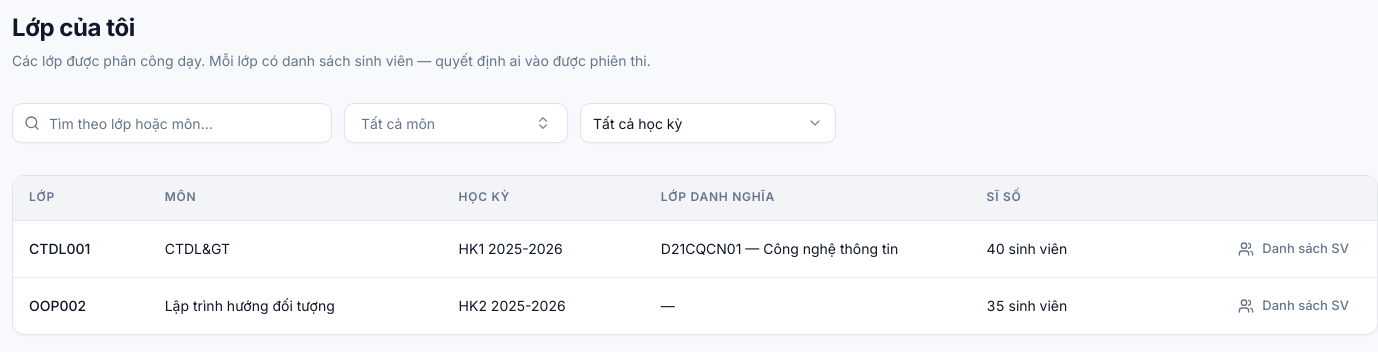
Test: TeacherClassesPage › lọc theo học kỳ
The image size is (1378, 352).
Click the dropdown named "Lọc theo học kỳ" at x=708, y=123, box [580,103,836,143]
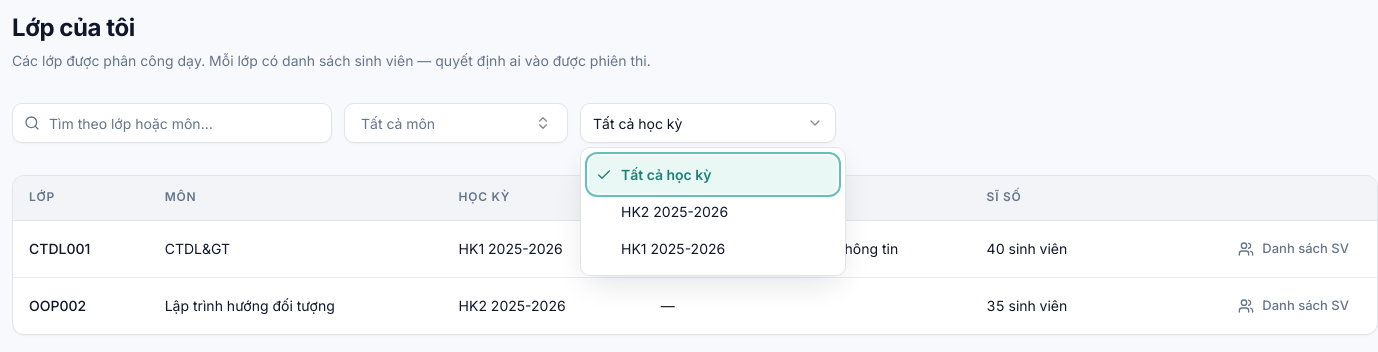
Click the option "HK2 2025-2026" at x=675, y=212, box [621,203,728,220]
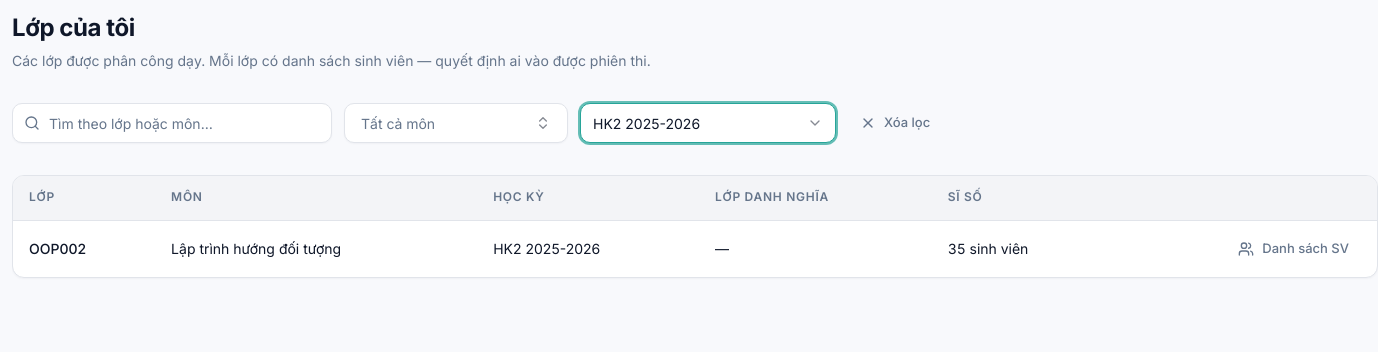
Expected: the text "OOP002" is shown, [13,220,155,276]
Now the text "CTDL001" is gone
